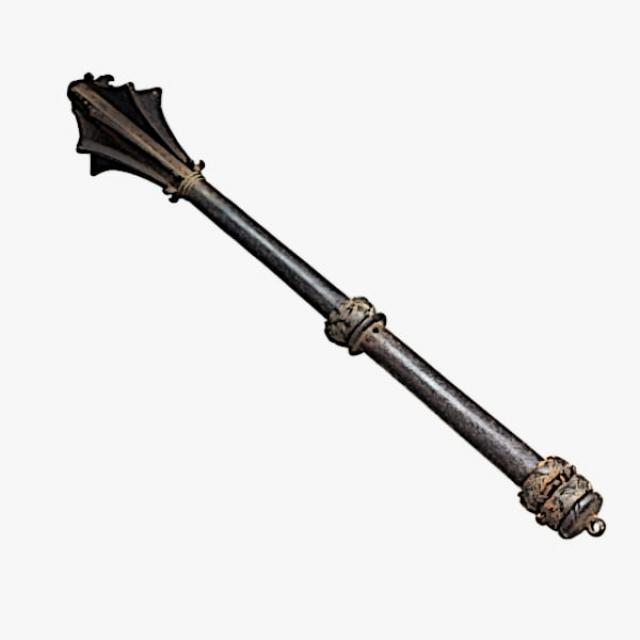mace: (67, 72, 607, 540)
